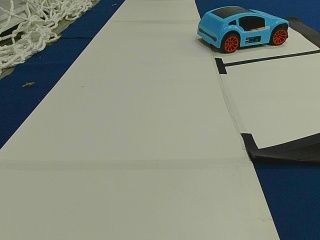car: (197, 8, 289, 52)
